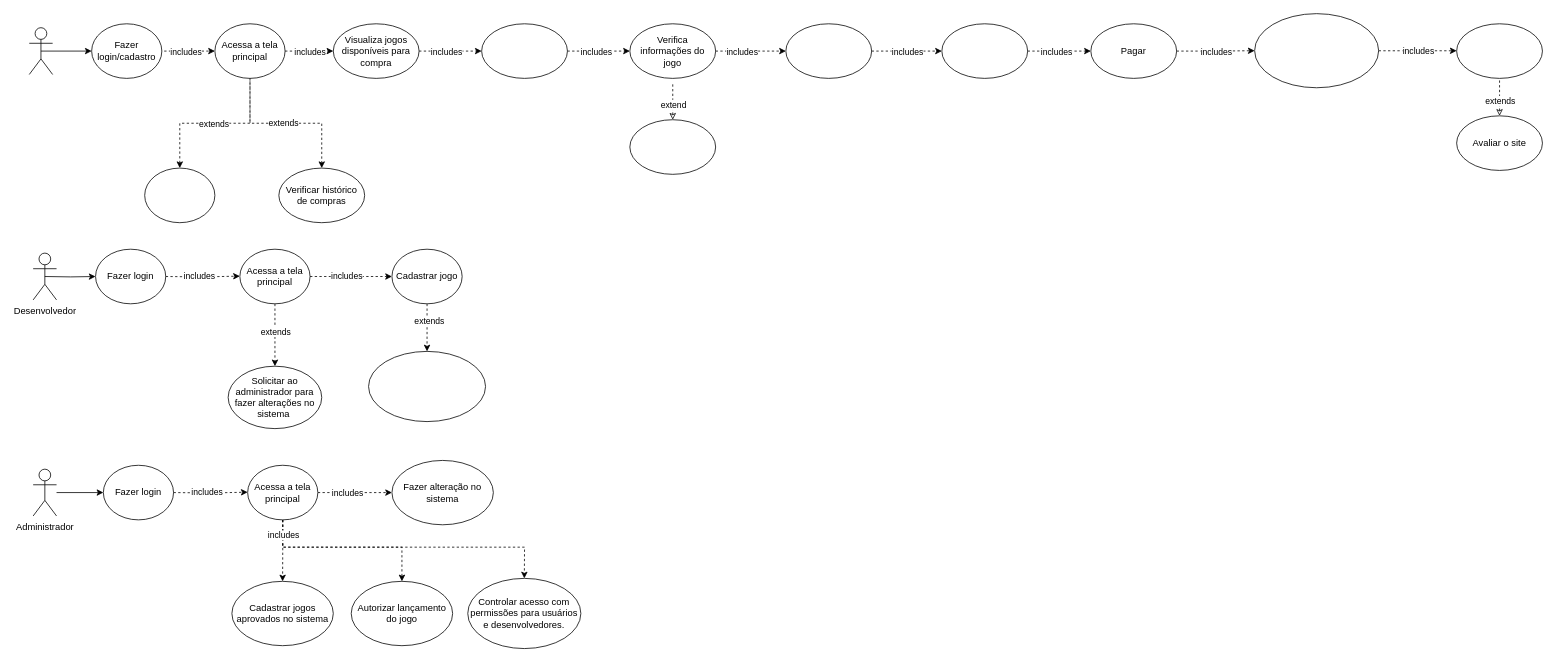
This 1556x662 diagram has some shape labels left out. Each missing label, with the centre of its shape:
Adicionar ao carrinho: point 828,50
Cliente: point 40,50
Disponibilizar arquivo de instalação do jogo: point 1316,50
Entrar para equipe de jogos: point 179,195
Escolher método de pagamento: point 984,50
Finalizar operação: point 1499,50
Seleciona um jogo: point 524,50
Solicitar ao administrador para autorizar o lançamento do jogo: point 427,386
Verificar avaliações: point 672,146
